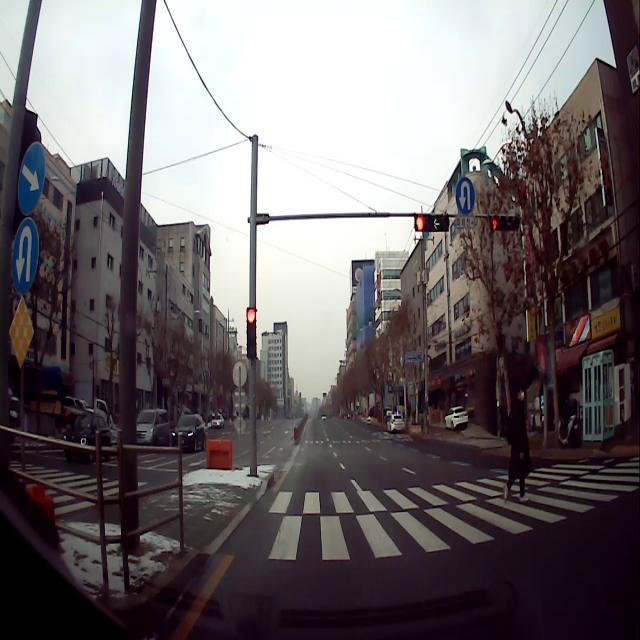crosswalk: (232, 453, 640, 560), (0, 462, 149, 520)
